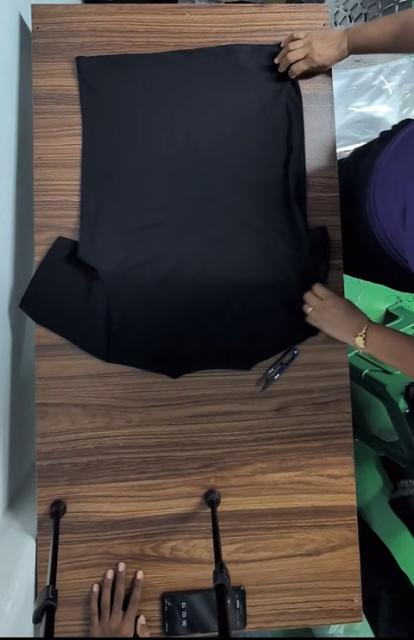new-garment: (22, 45, 329, 377)
